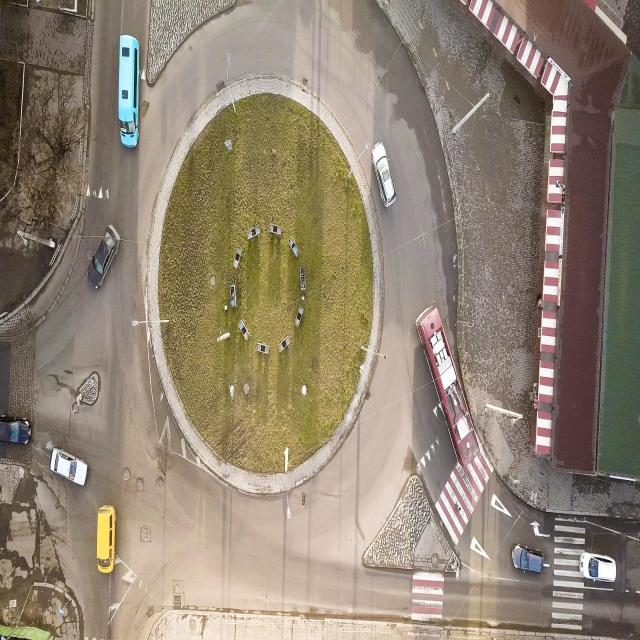Bus: (414, 300, 481, 468)
Car: (85, 224, 121, 293), (370, 141, 398, 210), (48, 445, 88, 489), (94, 504, 117, 575), (579, 549, 618, 586), (511, 542, 544, 576), (0, 415, 33, 449)
Van: (116, 36, 141, 150)
